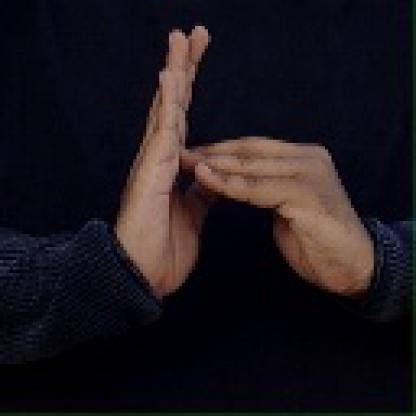Z: (119, 21, 357, 308)
